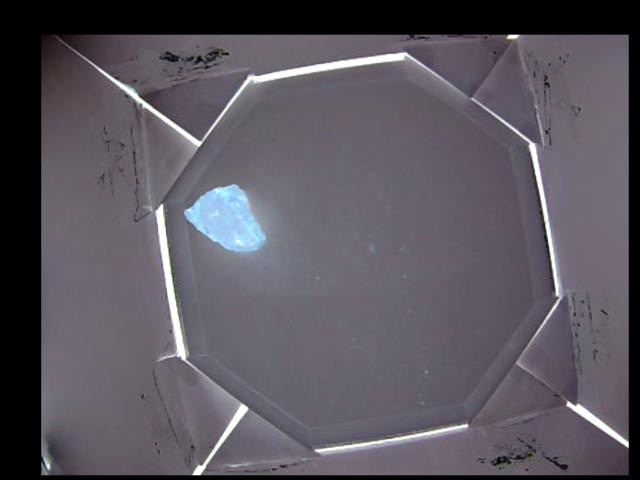Brisk: (184, 186, 266, 253)
